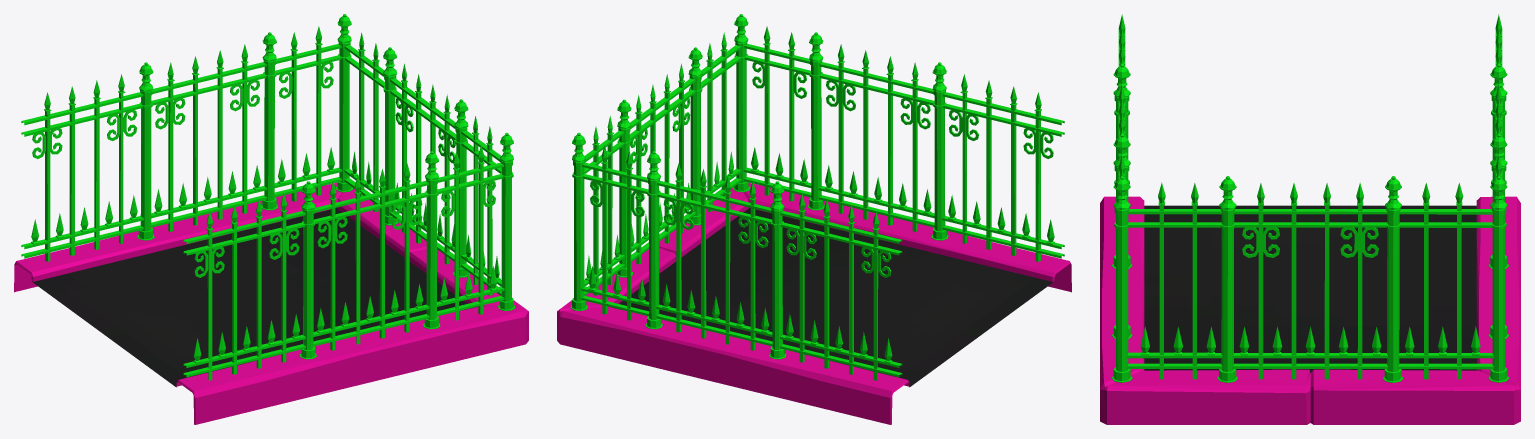
Rendered from City_Fence11.fbx.
3 views of the same model, side by side, from view 1: azimuth 30°, elevation 25°; view 2: azimuth 150°, elevation 25°; view 3: azimuth 270°, elevation 25° (orthographic). The views are drawn at different scales.
Parts seen in each view (by area): view 1: SM_City_Fence_04_Divider_02b.mo; view 2: SM_City_Fence_04_Divider_02b.mo; view 3: SM_City_Fence_04_Divider_02b.mo.
Part boxes in pixels (box(x1,y1,x2,y2)): SM_City_Fence_04_Divider_02b.mo: box(14, 14, 528, 424); SM_City_Fence_04_Divider_02b.mo: box(557, 14, 1071, 424); SM_City_Fence_04_Divider_02b.mo: box(1100, 14, 1520, 424).
Size of the model in its own units: 378 by 222 by 352.
